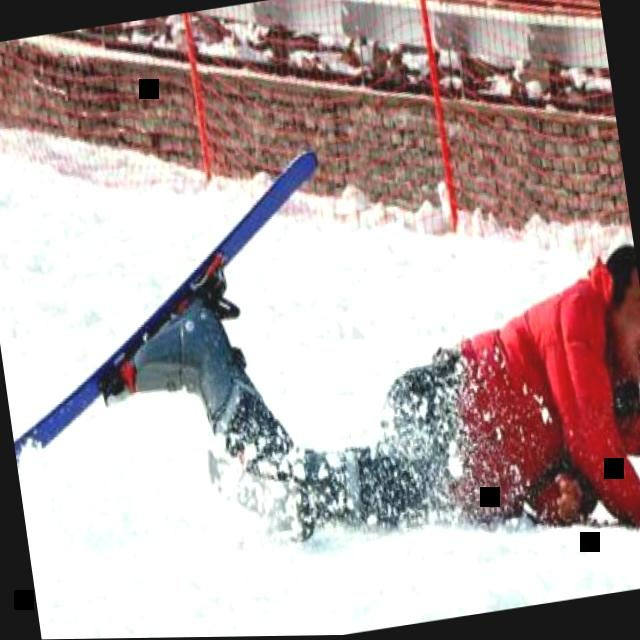Fall-Detected: (50, 189, 640, 631)
